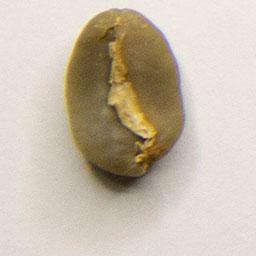premium: (61, 6, 190, 182)
